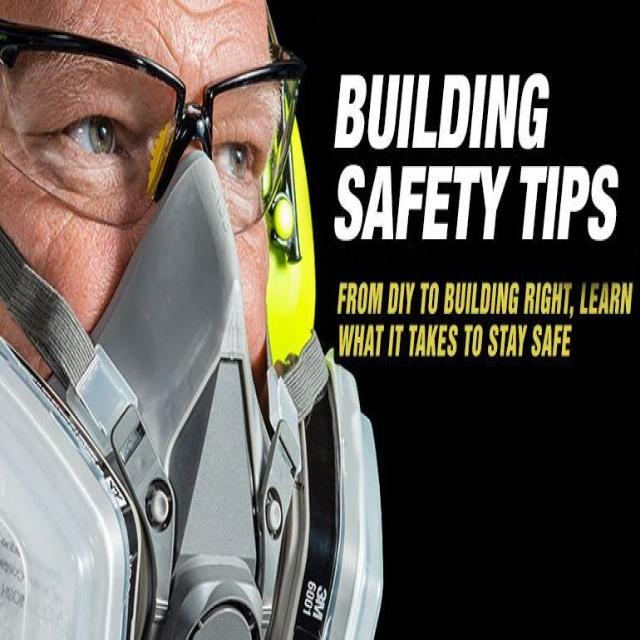goggles: (0, 6, 304, 238)
